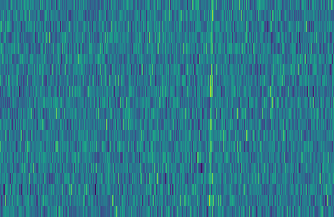signal: (205, 0, 217, 217)
